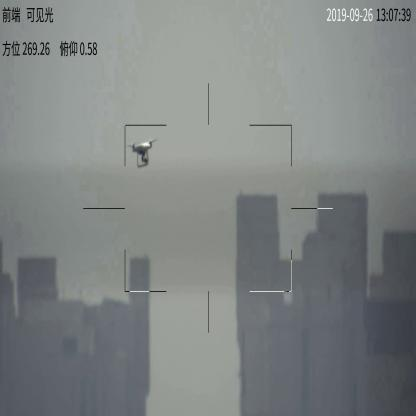uav: (125, 136, 159, 168)
